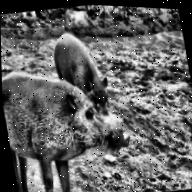boar: (1, 50, 137, 192), (55, 20, 130, 128)
